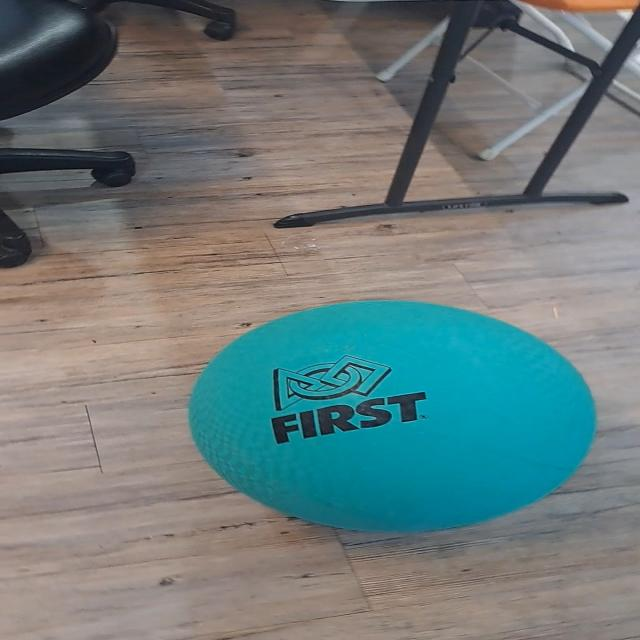ALGAE: (185, 298, 598, 534)
